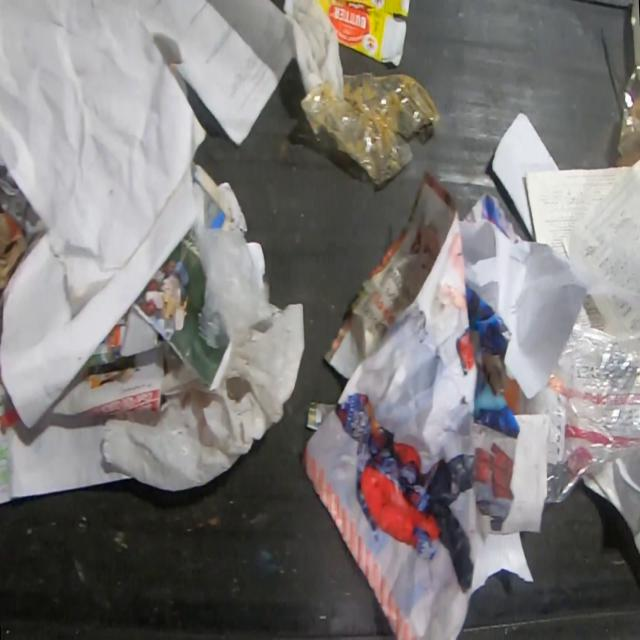cardboard: (313, 0, 412, 68)
rigid_plastic: (297, 71, 442, 192)
soft_plastic: (101, 301, 306, 492), (516, 318, 640, 506), (192, 179, 275, 350), (613, 64, 640, 168)
